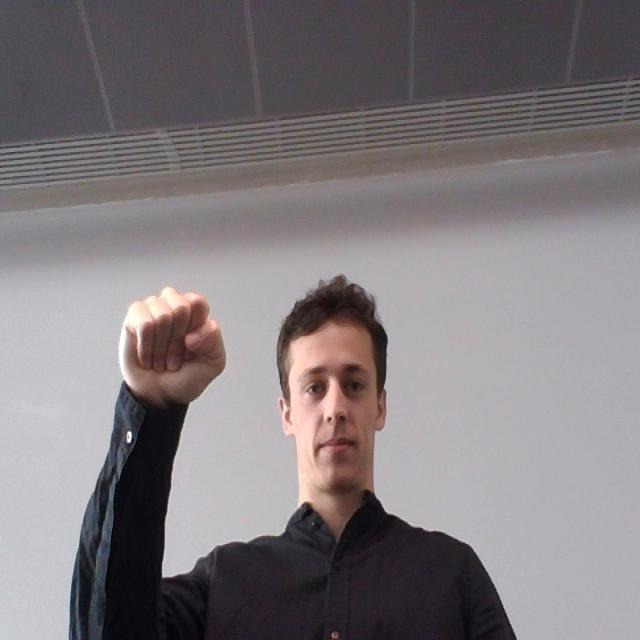stop: (108, 275, 228, 429)
